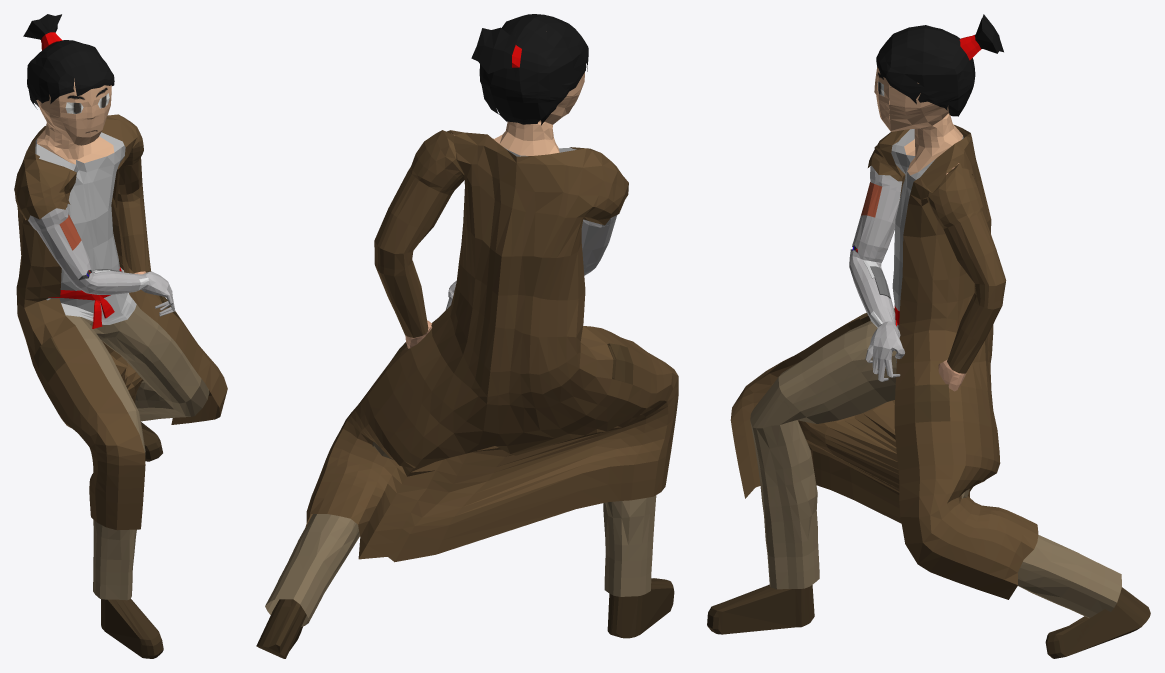
File: One_RL_000005.obj
The picture shows the model from 3 angles, left to right: view 1: azimuth 30°, elevation 25°; view 2: azimuth 150°, elevation 25°; view 3: azimuth 270°, elevation 25°; orthographic projection. The views are drawn at different scales.
Visible parts, largest first — view 1: Hair_Cube.004; view 2: Hair_Cube.004; view 3: Hair_Cube.004.
Part boxes in pixels (bbox=[...]): Hair_Cube.004: bbox=[14, 14, 227, 658]; Hair_Cube.004: bbox=[256, 14, 678, 658]; Hair_Cube.004: bbox=[707, 14, 1150, 658].
Bounding box in the file's own units: 1.44 × 3.52 × 2.28.
